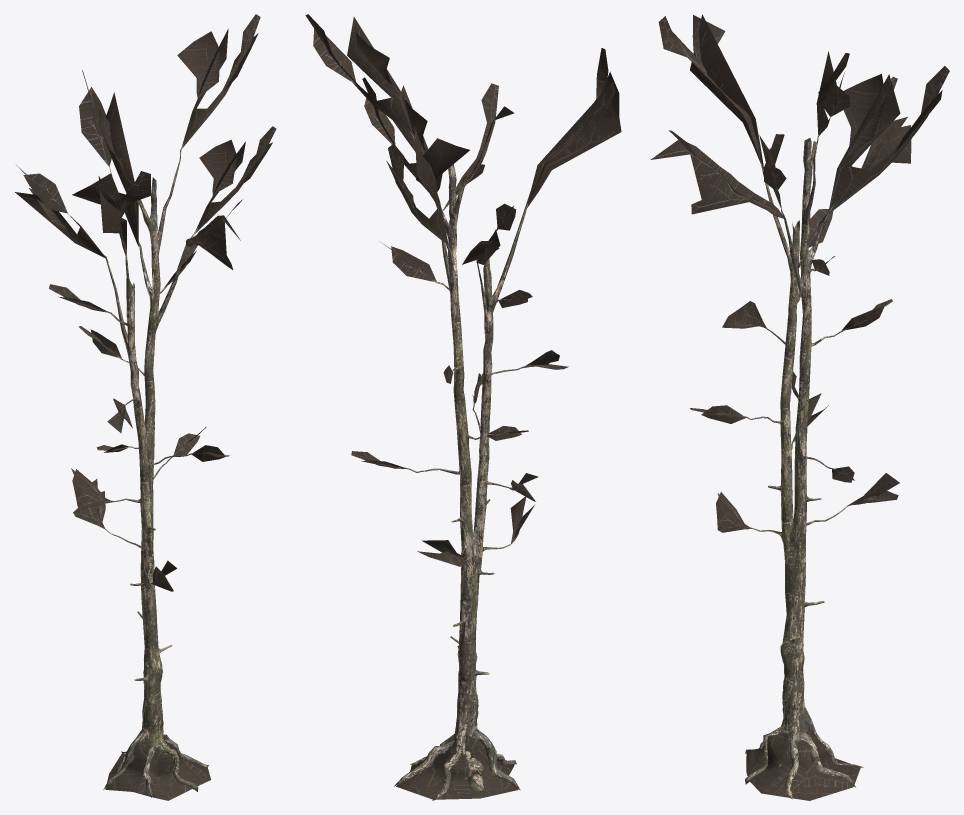
File: SM_Tree_04.fbx
3 views of the same model, side by side, from view 1: azimuth 30°, elevation 25°; view 2: azimuth 150°, elevation 25°; view 3: azimuth 270°, elevation 25° (orthographic). The views are drawn at different scales.
Visible parts, largest first — view 1: SM_Tree_04; view 2: SM_Tree_04; view 3: SM_Tree_04.
Boxes of the visible parts, box(x1,y1,x2,y2) form: SM_Tree_04: box(15, 14, 276, 800); SM_Tree_04: box(305, 14, 621, 800); SM_Tree_04: box(650, 14, 949, 800).
Bounding box in the file's own units: 658 × 654 × 1859.
2 materials, 2 textured.
